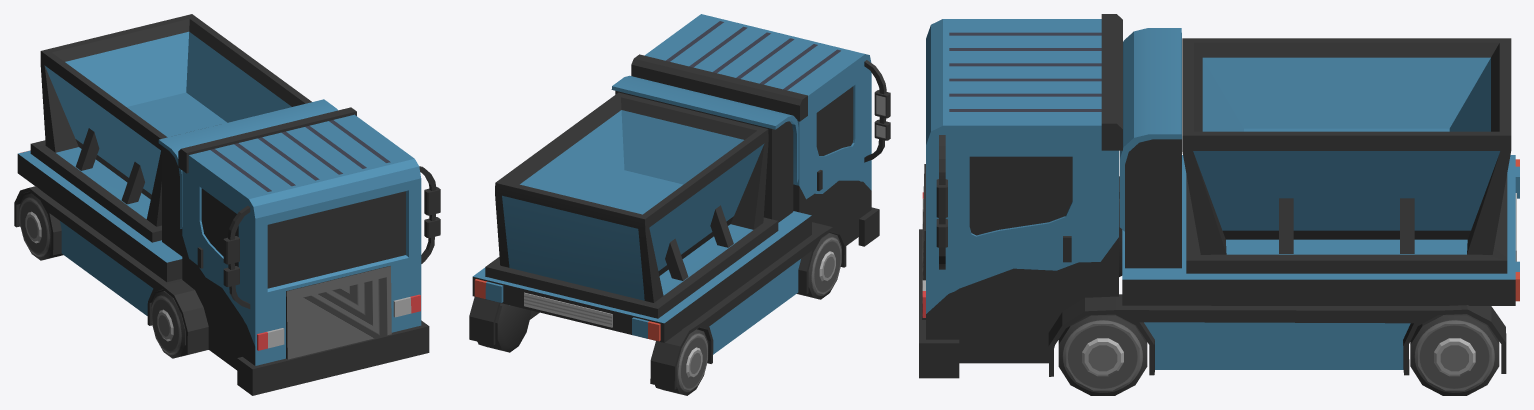
File: truck01_color02.fbx
3 views of the same model, side by side, from view 1: azimuth 30°, elevation 25°; view 2: azimuth 150°, elevation 25°; view 3: azimuth 270°, elevation 25° (orthographic). The views are drawn at different scales.
Parts seen in each view (by area): view 1: Cube.432, Cylinder.010, Cylinder.014; view 2: Cube.432, Cylinder.010, Cylinder.014, Cylinder.015; view 3: Cube.432, Cylinder.015, Cylinder.016.
Part boxes in pixels (x1,y1,x2,y2): Cube.432: (14, 14, 440, 395); Cylinder.010: (151, 291, 195, 358); Cylinder.014: (19, 193, 63, 260); Cube.432: (469, 14, 890, 389); Cylinder.010: (797, 233, 841, 299); Cylinder.014: (655, 329, 708, 395); Cylinder.015: (477, 303, 530, 352); Cube.432: (919, 14, 1519, 378); Cylinder.015: (1410, 314, 1499, 395); Cylinder.016: (1058, 314, 1147, 395).
Bounding box in the file's own units: 304 × 269 × 559.
